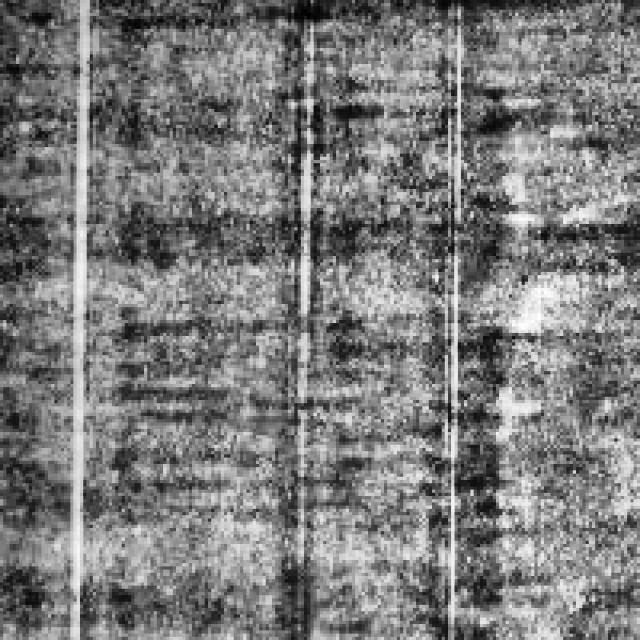Inclusion: (54, 10, 100, 628)
